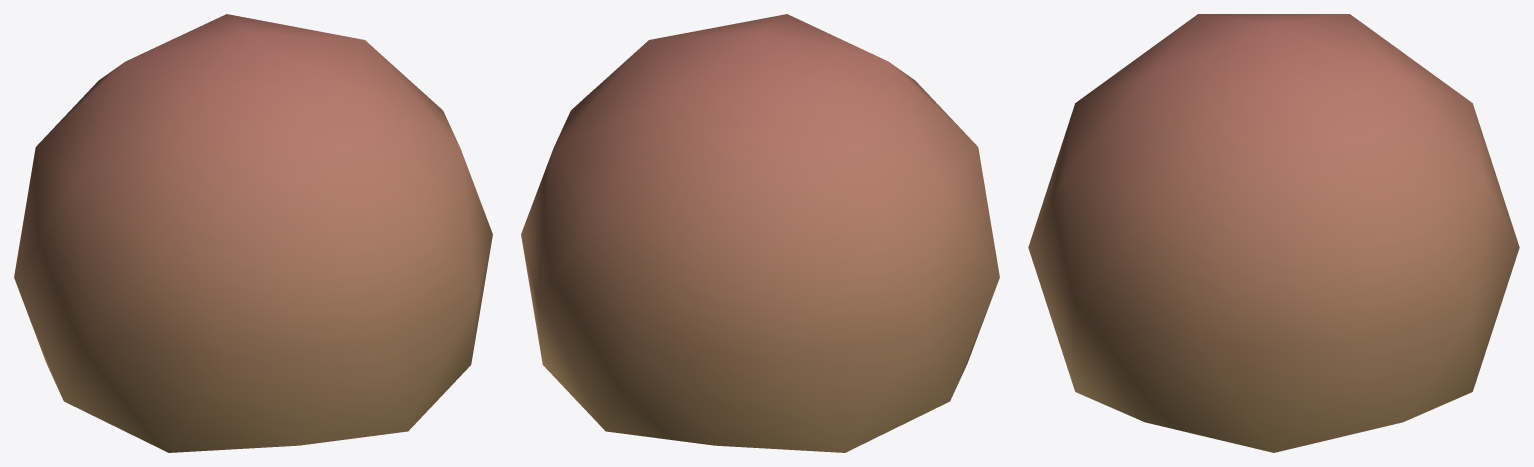
3 renders of one model, left to right at view 1: azimuth 30°, elevation 25°; view 2: azimuth 150°, elevation 25°; view 3: azimuth 270°, elevation 25°, orthographic.
Visible parts, largest first — view 1: Icosphere.005; view 2: Icosphere.005; view 3: Icosphere.005.
Boxes of the visible parts, bbox=[...] form: Icosphere.005: bbox=[14, 14, 492, 452]; Icosphere.005: bbox=[521, 14, 999, 452]; Icosphere.005: bbox=[1028, 14, 1519, 452].
Size of the model in its own units: 7.53 by 6.04 by 7.91.
